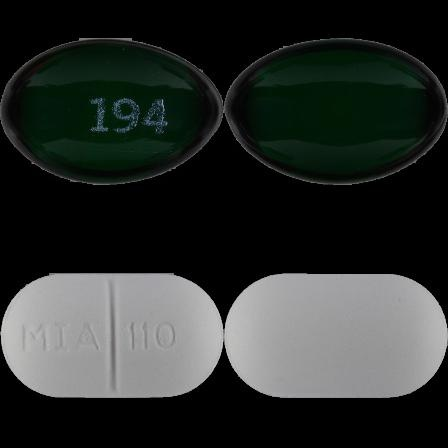63187-519: (0, 0, 224, 224)
